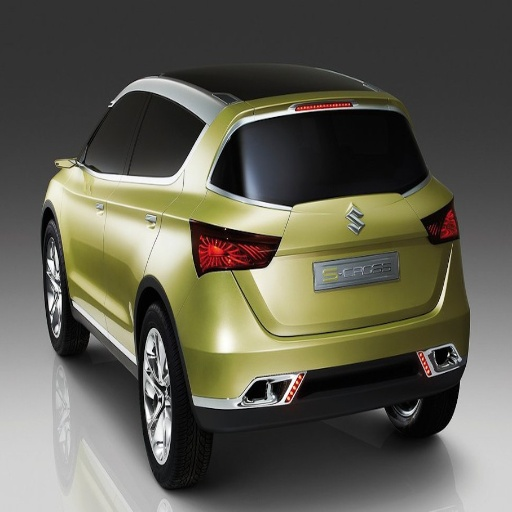back_bumper: (175, 246, 471, 428)
back_glass: (233, 111, 422, 205)
back_left_light: (190, 221, 253, 274)
back_right_door: (211, 119, 266, 188)
tailgate: (229, 222, 344, 333), (258, 194, 387, 226)
trunk: (259, 184, 444, 329)
